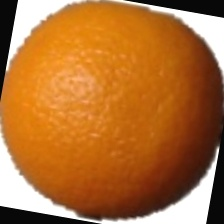orange: (29, 26, 177, 177)
